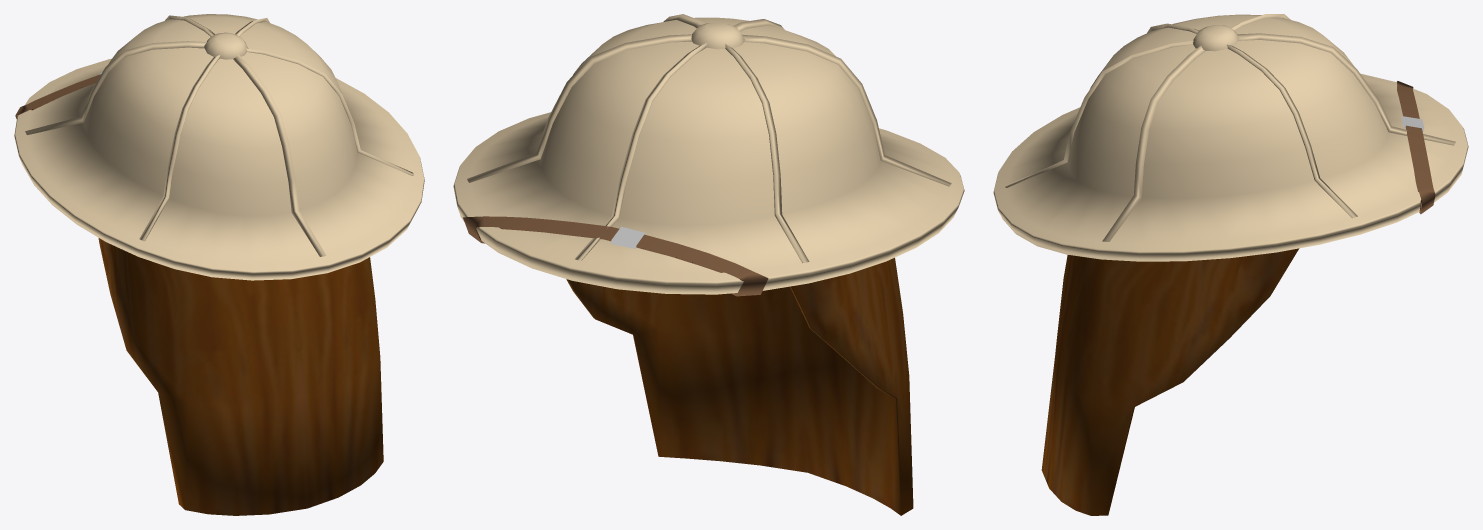
File: acc.glb
The picture shows the model from 3 angles, left to right: view 1: azimuth 30°, elevation 25°; view 2: azimuth 150°, elevation 25°; view 3: azimuth 270°, elevation 25°; orthographic projection. The views are drawn at different scales.
Visible parts, largest first — view 1: Part, Part.001; view 2: Part, Part.001; view 3: Part, Part.001.
Part boxes in pixels (x1,y1,x2,y2): Part: [14, 14, 424, 280]; Part.001: [98, 238, 383, 515]; Part: [453, 14, 964, 296]; Part.001: [566, 257, 913, 515]; Part: [993, 14, 1468, 261]; Part.001: [1041, 248, 1299, 515].
Bounding box in the file's own units: 2.04 × 2.36 × 2.31.
Materials: 2 (2 with a texture image).
